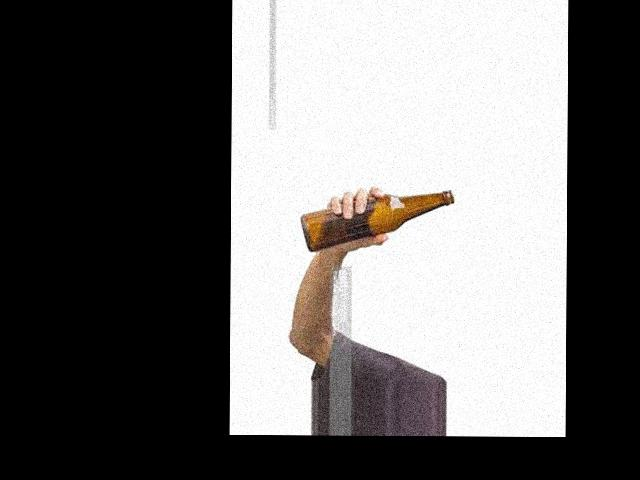beer: (301, 189, 453, 254)
